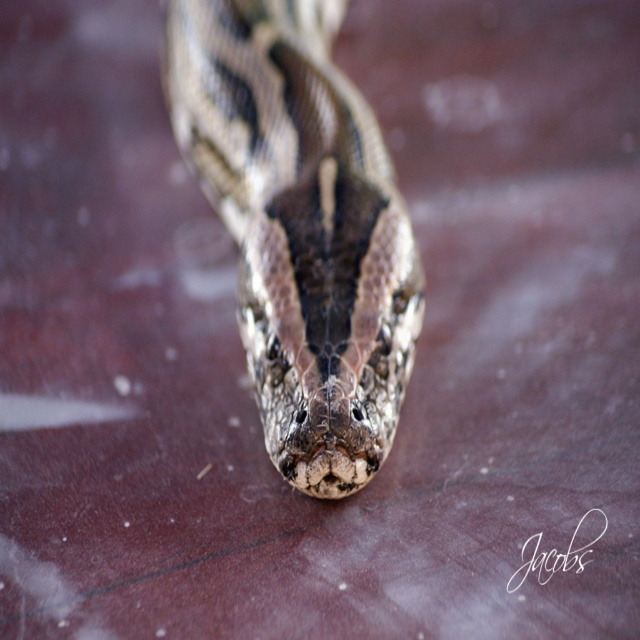Snake: (161, 0, 425, 507)
